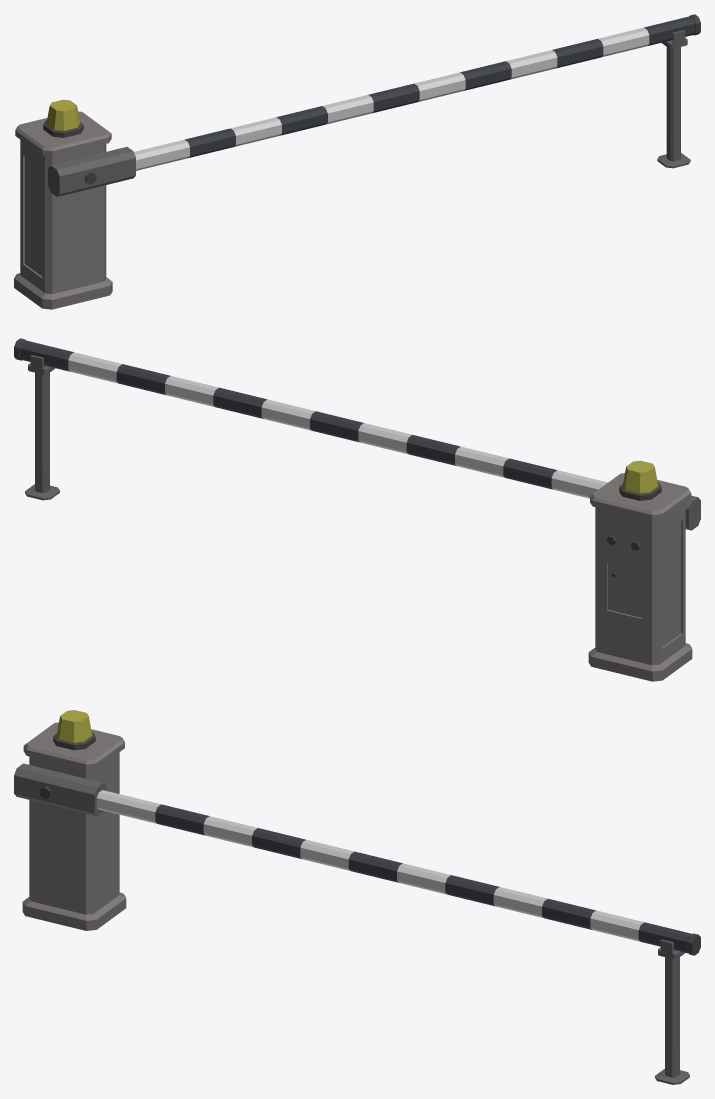
File: lifting-barrier-arm-64a343.glb
The picture shows the model from 3 angles, top to bottom: view 1: azimuth 30°, elevation 25°; view 2: azimuth 150°, elevation 25°; view 3: azimuth 330°, elevation 25°; orthographic projection. The views are drawn at different scales.
Visible parts, largest first — view 1: housing, boom-mesh; view 2: housing, boom-mesh; view 3: housing, boom-mesh.
Part boxes in pixels (bbox=[...]): housing: bbox=[14, 30, 690, 309]; boom-mesh: bbox=[48, 14, 700, 196]; housing: bbox=[25, 355, 692, 681]; boom-mesh: bbox=[14, 338, 700, 530]; housing: bbox=[22, 710, 689, 1084]; boom-mesh: bbox=[14, 763, 700, 955].
Bounding box in the file's own units: 4.23 × 1.15 × 0.519.
